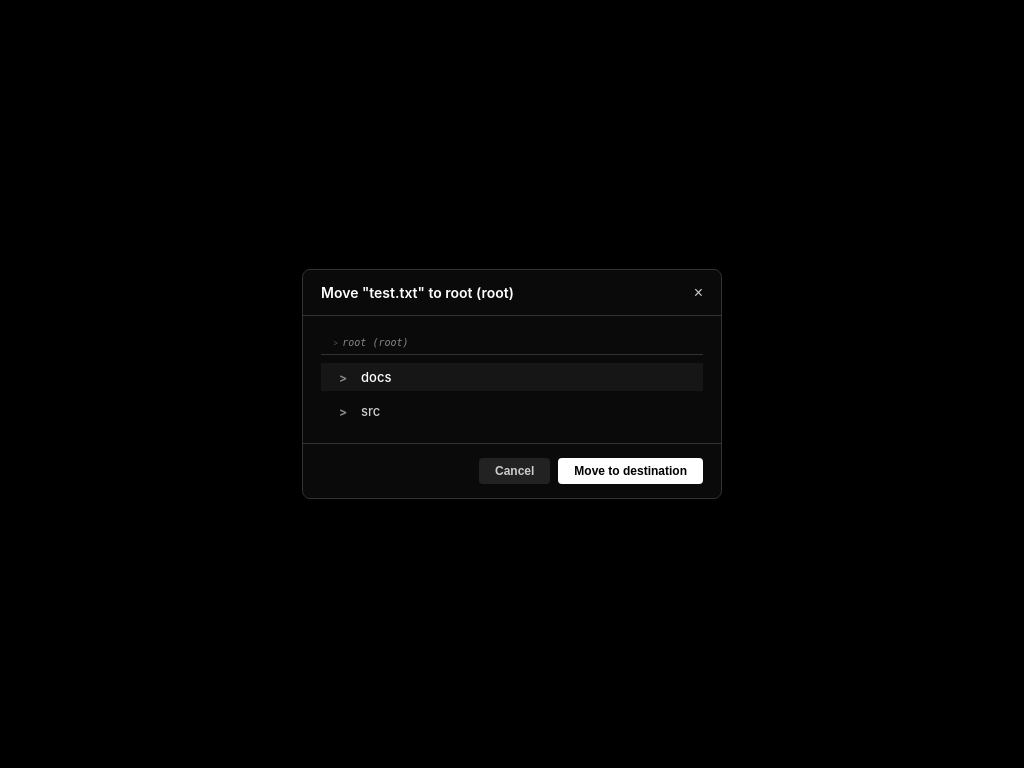
DirectoryPicker › disables buttons while moving
Expected: the text "docs" is shown, [361, 369, 391, 385]
Click the button "Move to destination" at (631, 471), box [558, 458, 703, 484]
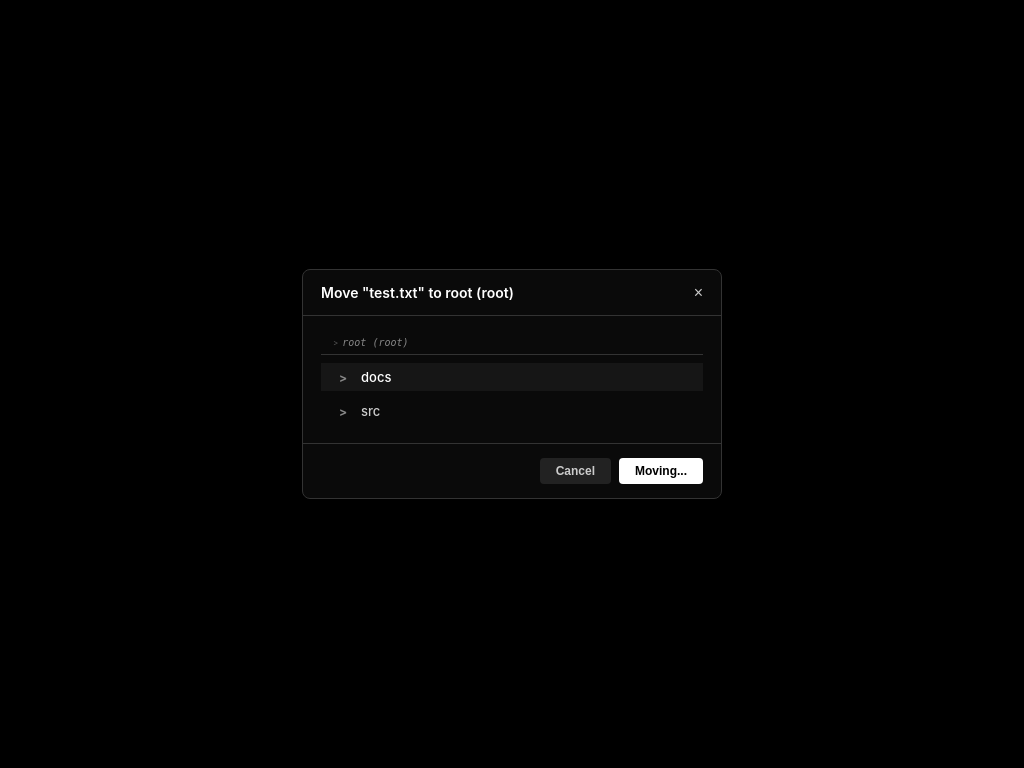
Expected: the button "Moving..." is shown, [619, 458, 703, 484]
Expected: the button "Cancel" is disabled, [540, 458, 611, 484]
